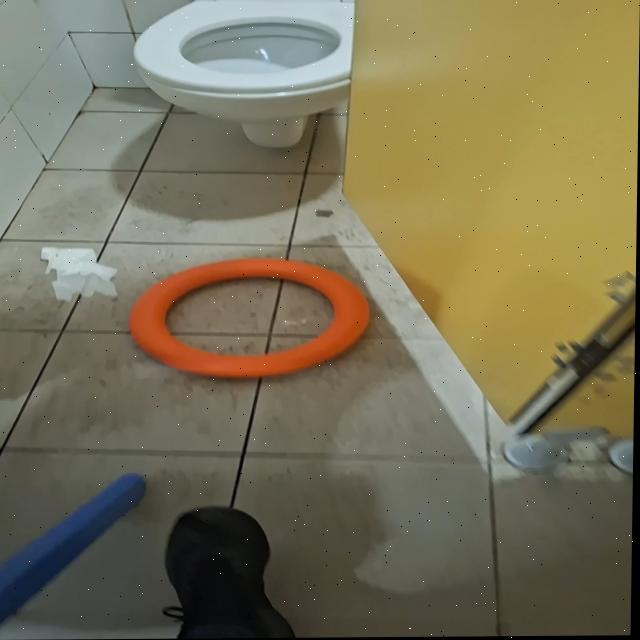note: (128, 256, 374, 380)
